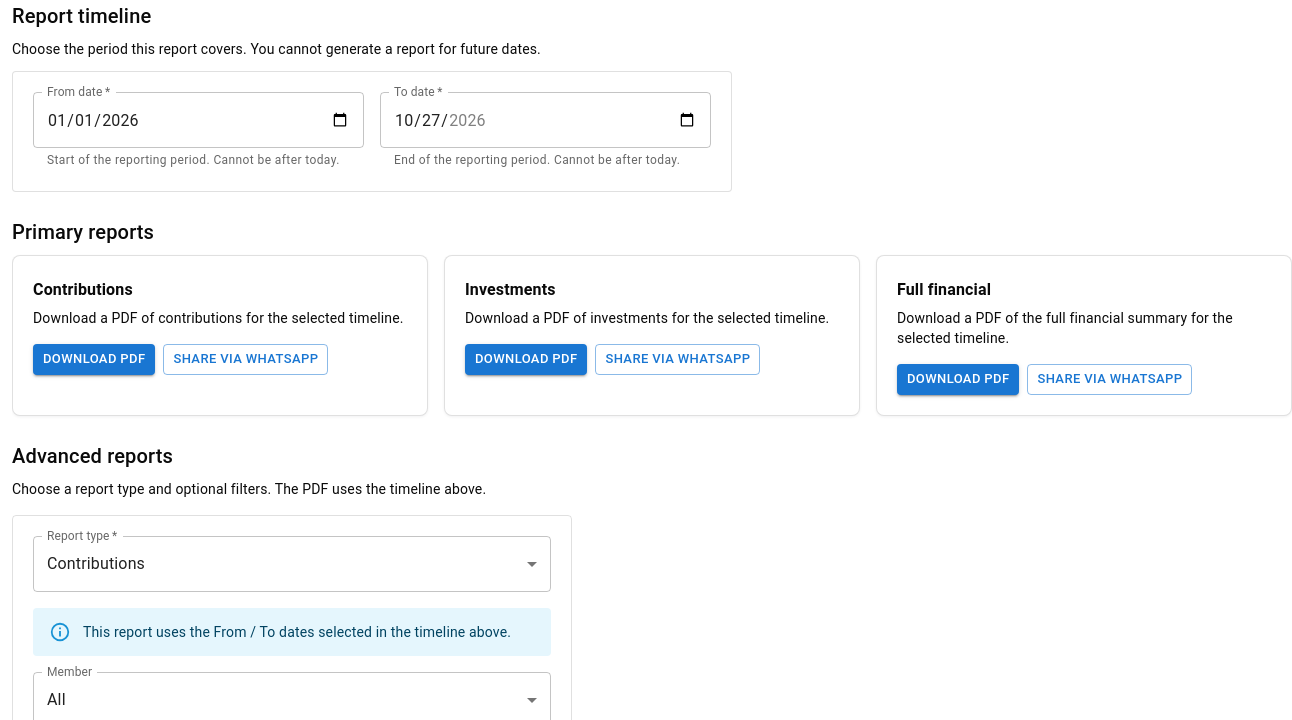
Test: ReportsExportPanel filters › blocks export for a future end date
This screenshot has width=1292, height=720.
Type "2999-01-01" into the date field labelled "To date *".
click(546, 120); type("2999-01-01")  # box [380,92,711,148]
(page scrolled)
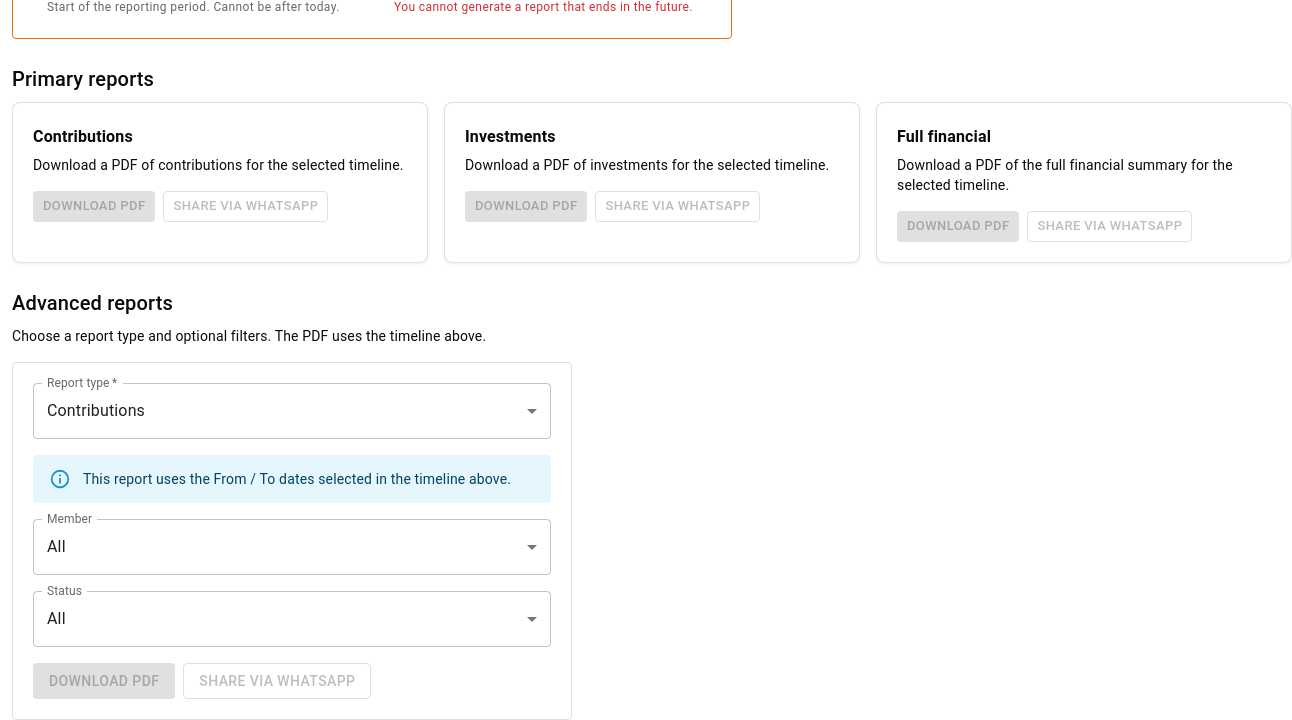
Result: the 1st button "Download PDF" is disabled at [33,191,155,222]
Result: the 2nd button "Download PDF" is disabled at [465,191,587,222]
Result: the 3rd button "Download PDF" is disabled at [897,211,1019,242]
